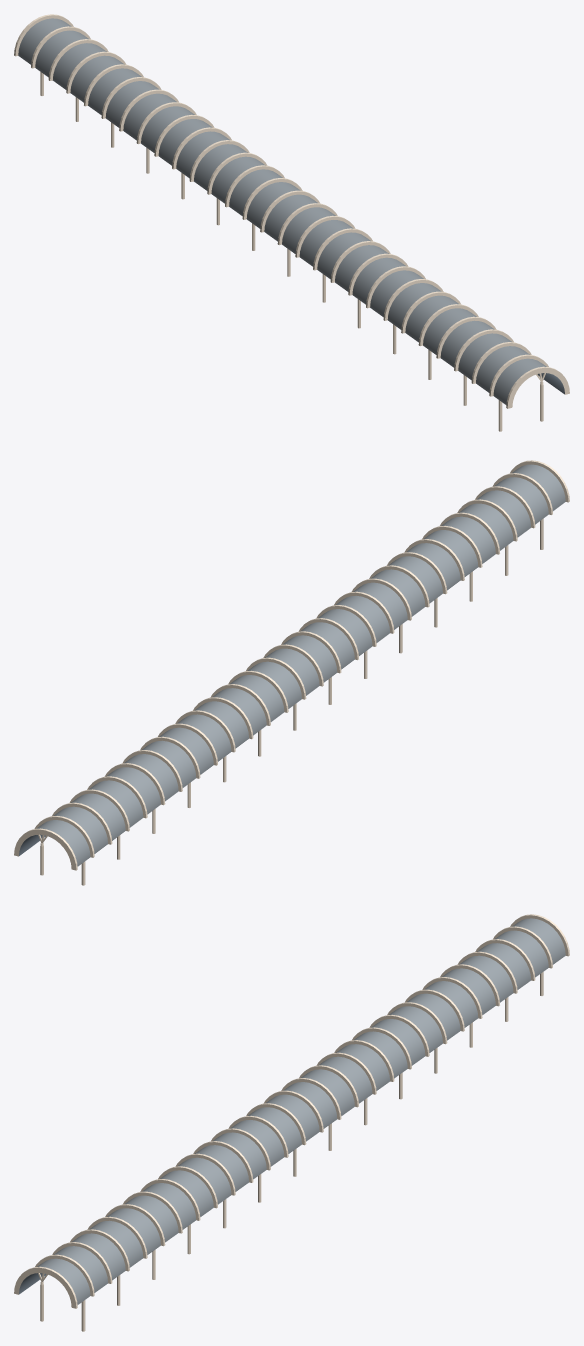
The model's file is lv-fremont-canopy.glb.
3 views of the same model, one above another, from view 1: azimuth 30°, elevation 25°; view 2: azimuth 150°, elevation 25°; view 3: azimuth 330°, elevation 25° (orthographic).
Visible parts, largest first — view 1: Fremont Street Experience canopy; view 2: Fremont Street Experience canopy; view 3: Fremont Street Experience canopy.
Part boxes in pixels (bbox=[...]): Fremont Street Experience canopy: bbox=[14, 14, 569, 431]; Fremont Street Experience canopy: bbox=[14, 460, 569, 885]; Fremont Street Experience canopy: bbox=[14, 914, 569, 1331].
Size of the model in its own units: 30.8 by 33.1 by 422.
